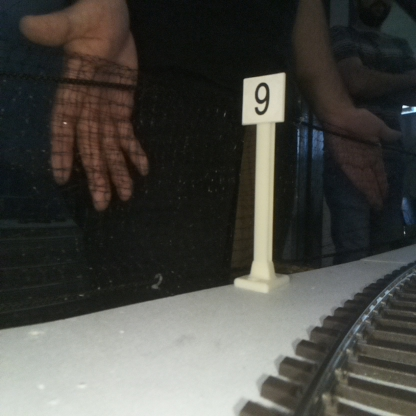white-info-9: (242, 73, 284, 287)
